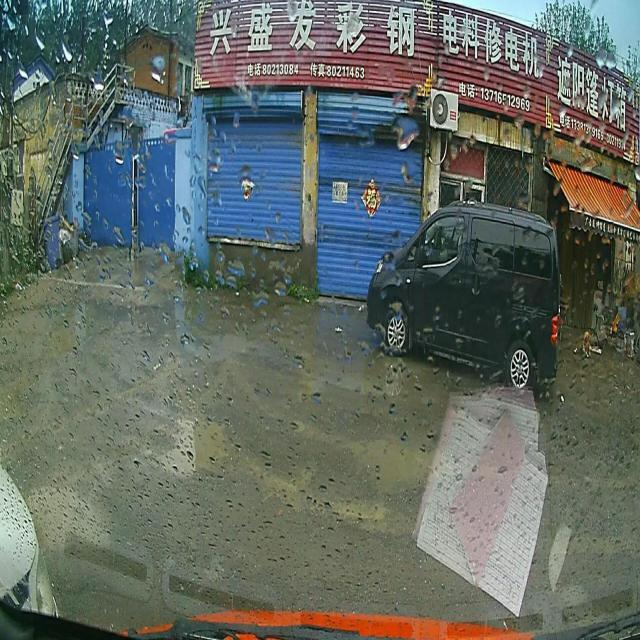car: (366, 206, 562, 389), (3, 420, 65, 600)
